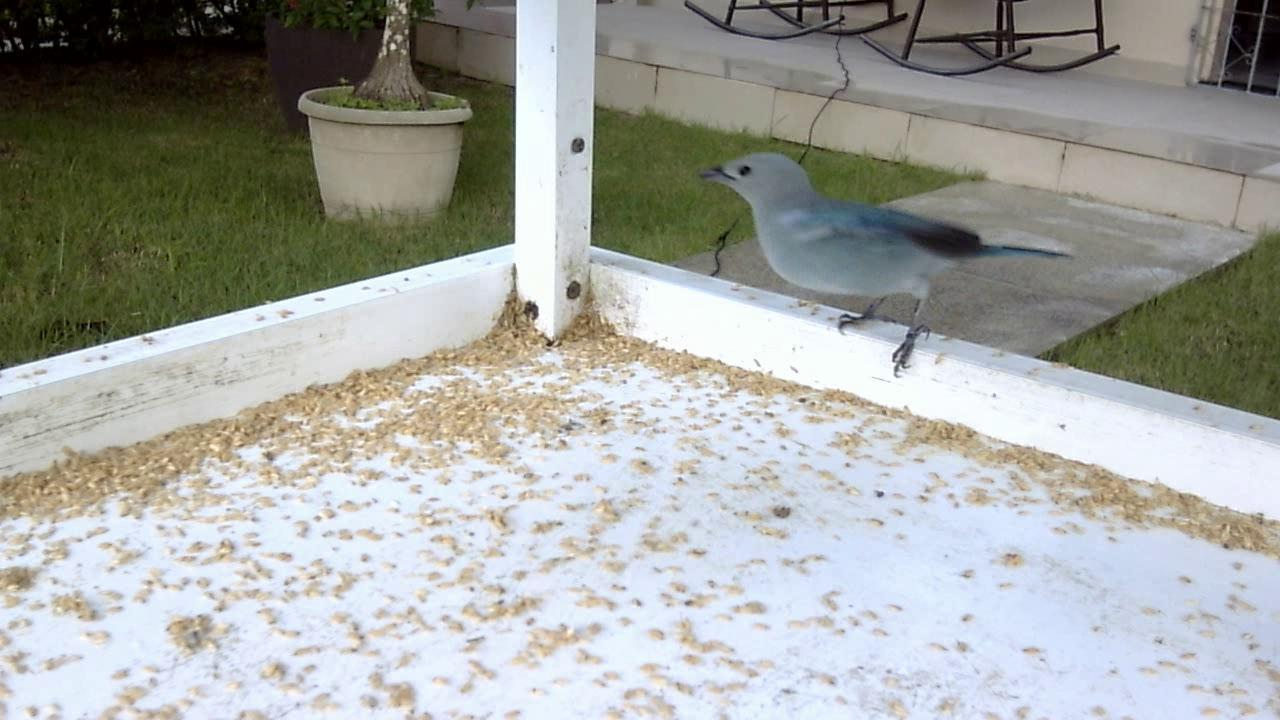sanhaco_da_amazonia: (699, 148, 1075, 384)
